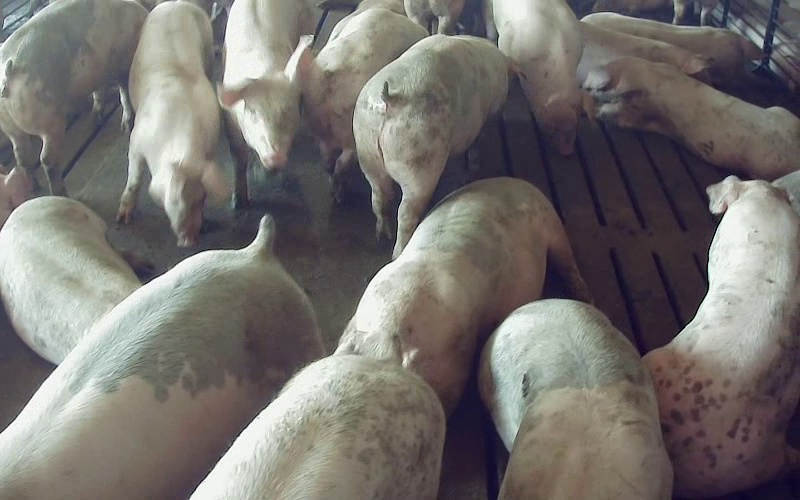pig: (0, 216, 323, 497), (336, 177, 589, 411), (644, 171, 799, 496), (479, 299, 672, 499), (191, 354, 444, 499), (353, 36, 507, 257), (583, 57, 799, 179), (117, 2, 219, 245), (0, 196, 140, 363), (302, 8, 427, 175), (493, 0, 582, 153), (581, 12, 760, 70), (577, 22, 707, 83)
